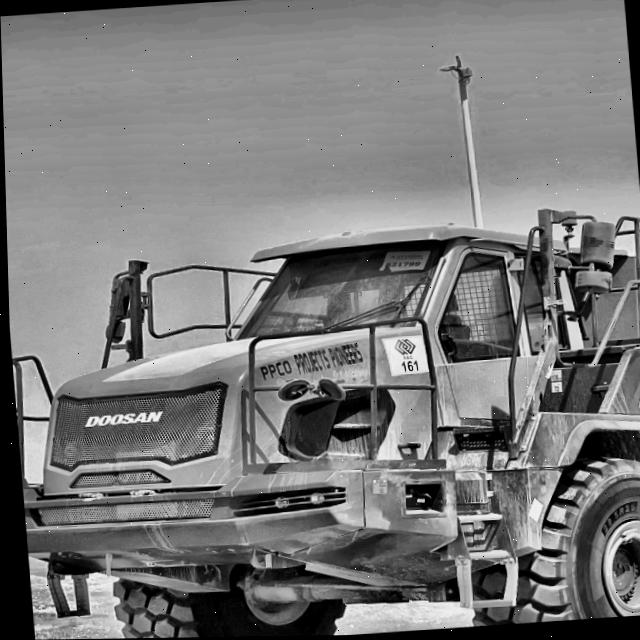dump_truck: (5, 190, 640, 640)
